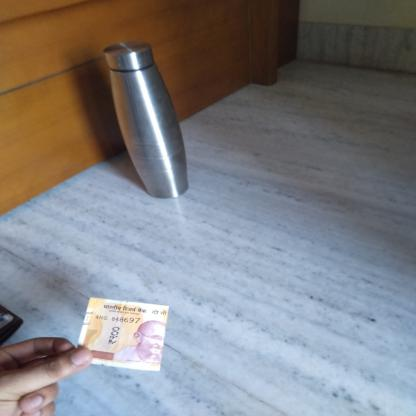New200Front: (84, 300, 166, 366)
